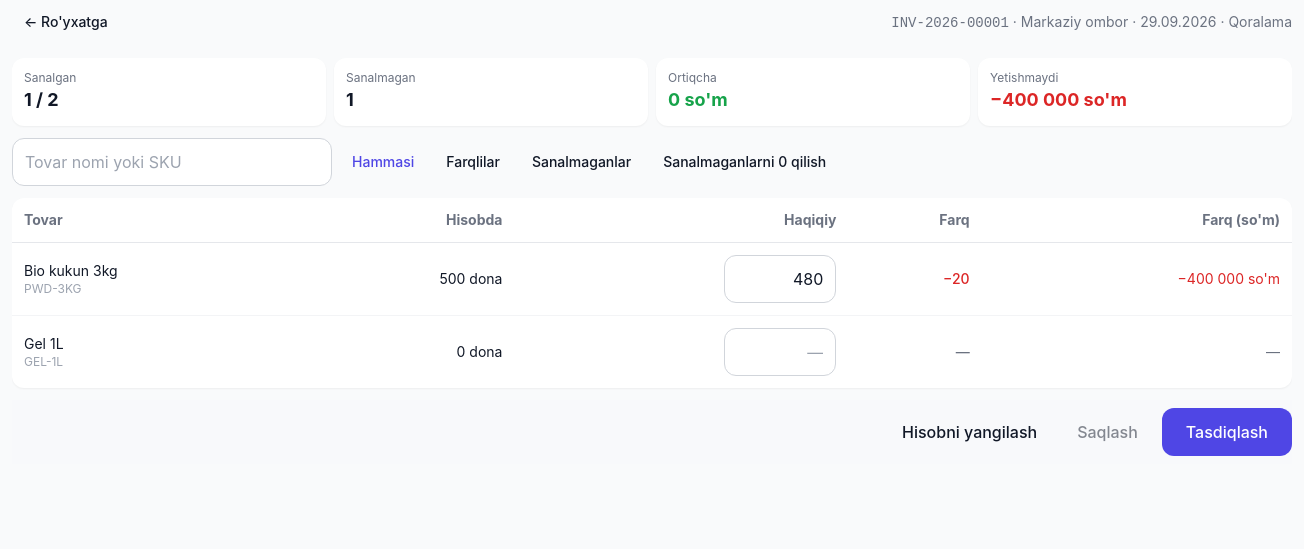
InventoryEditor › warns which counted rows got a new book quantity after refresh
Check: the field named "Bio kukun 3kg — haqiqiy qoldiq" is shown, box x1=724 y1=255 x2=836 y2=303
Click the button "Hisobni yangilash". click: (970, 432)
box: x1=886 y1=408 x2=1053 y2=456
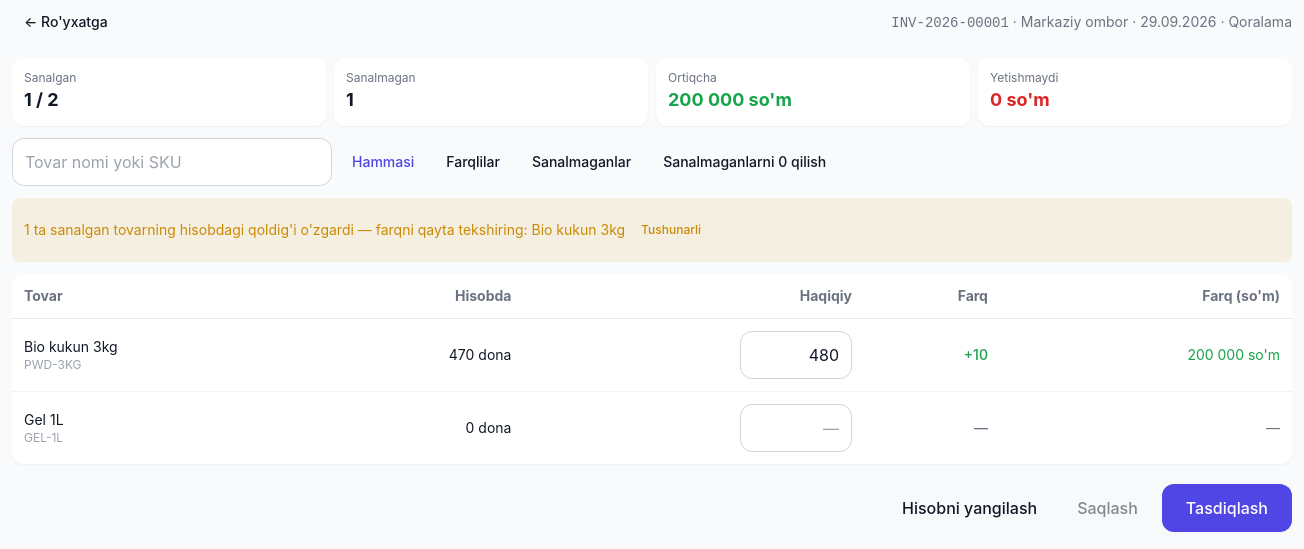
Check: the message shows "1 ta sanalgan tovarning hisobdagi qoldig'i o'zgardi", box x1=24 y1=221 x2=532 y2=238
Check: the message shows "Bio kukun 3kg", box x1=532 y1=221 x2=625 y2=238
